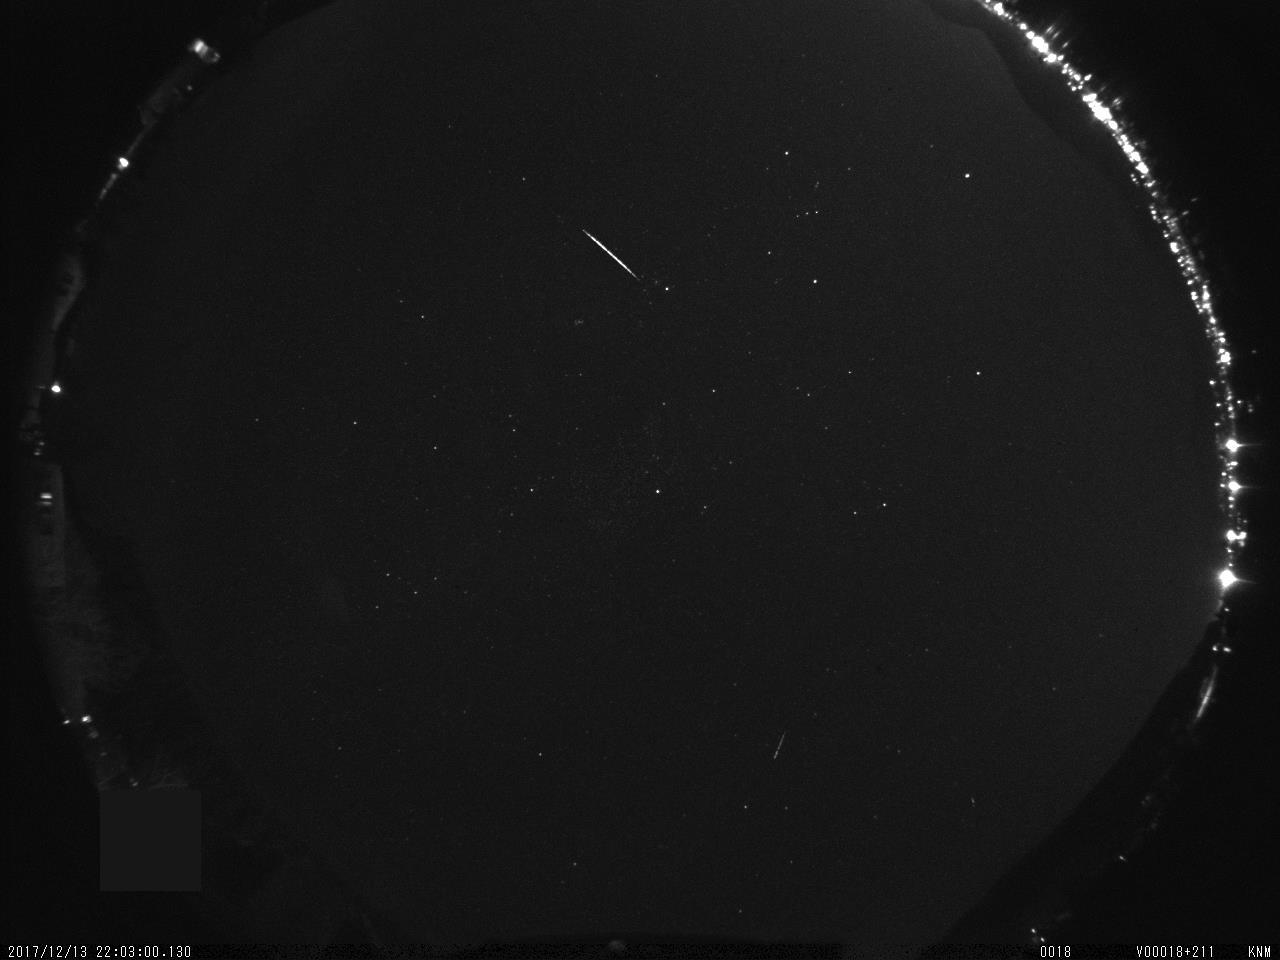meteor: (566, 219, 650, 289)
